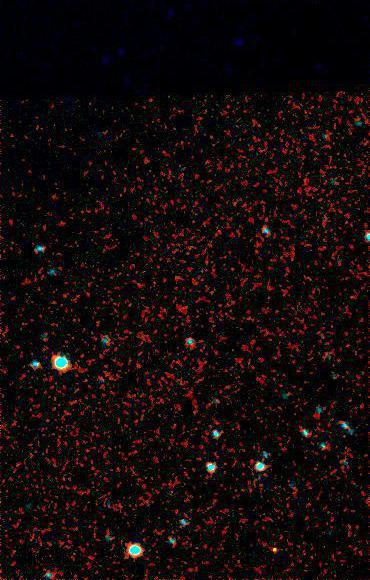star: (250, 539, 280, 569)
